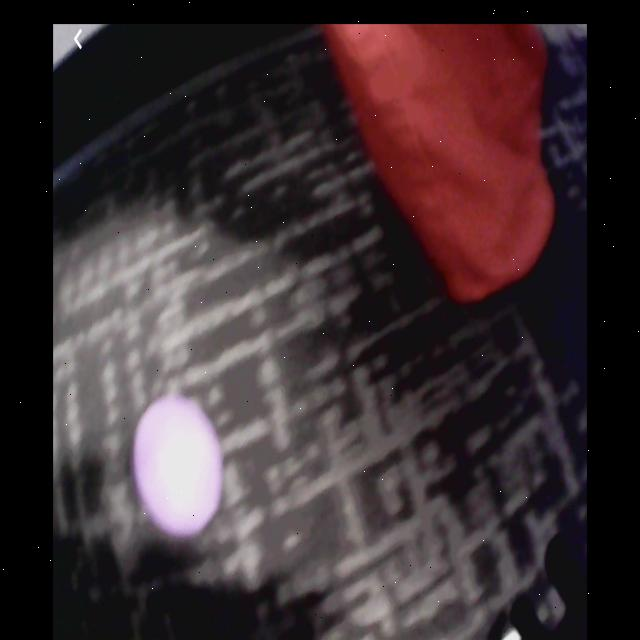ball: (138, 404, 221, 535)
